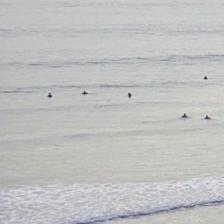surfer: (181, 113, 188, 118), (204, 115, 212, 119), (47, 92, 52, 98), (82, 90, 88, 95), (128, 92, 132, 98), (204, 76, 208, 80)
